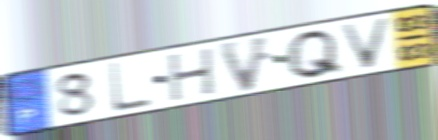8: (54, 70, 100, 119)
H: (167, 45, 217, 105)
L: (106, 59, 153, 115)
Q: (284, 28, 347, 81)
V: (215, 33, 275, 95), (337, 15, 395, 72)
